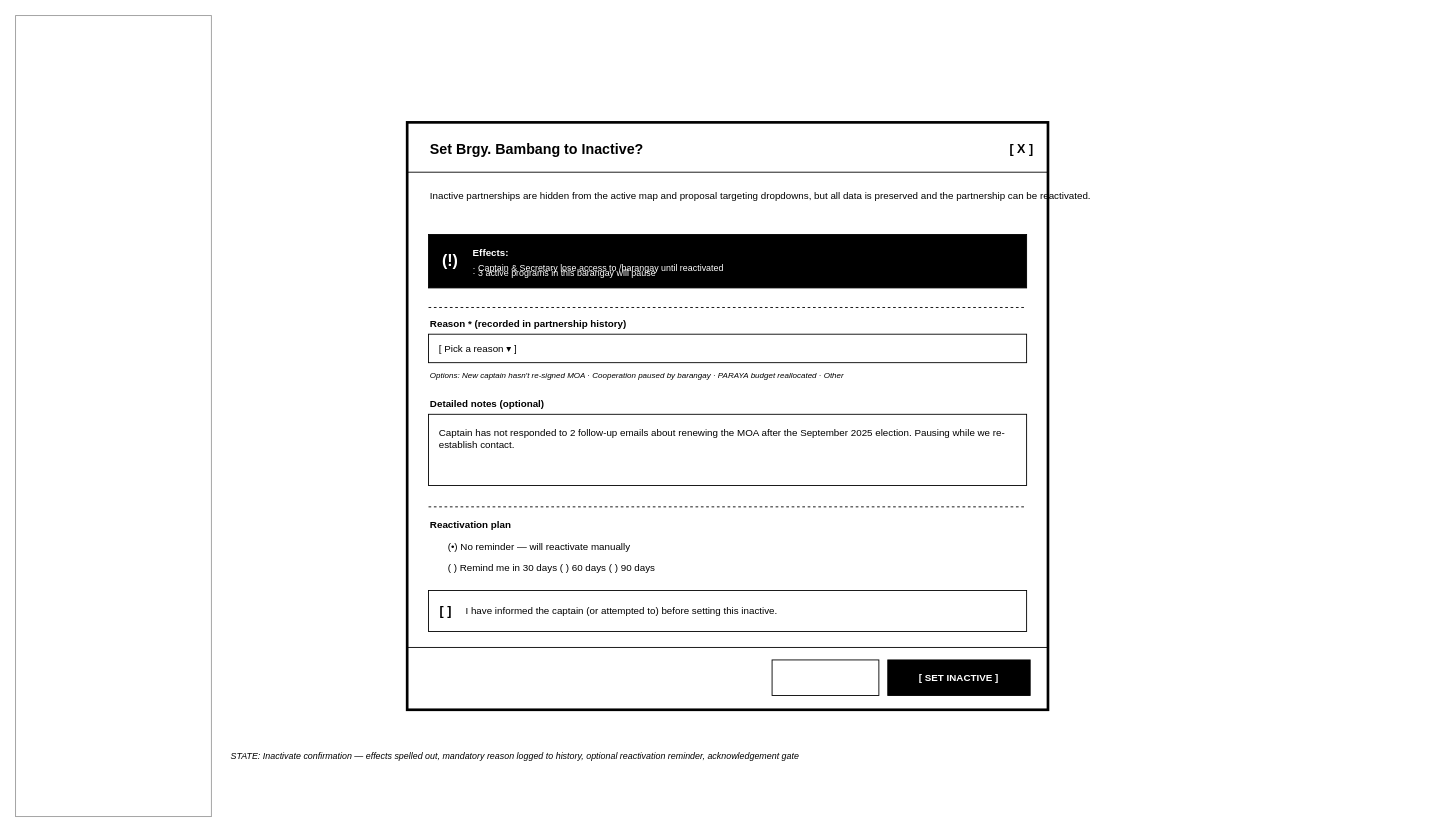
This 1437x832 diagram has some shape labels left out. The shapes that lost their labels are listed below. From the top down, each one's box as (x1, y1, x2, y2) in pixels, then its label:
(15, 15, 211, 817): AGAPE
(771, 659, 879, 696): [ CANCEL ]
